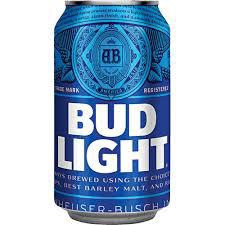beer: (50, 1, 175, 225)
